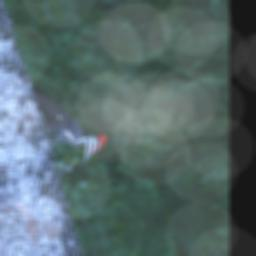Woodpecker: (26, 65, 115, 176)
